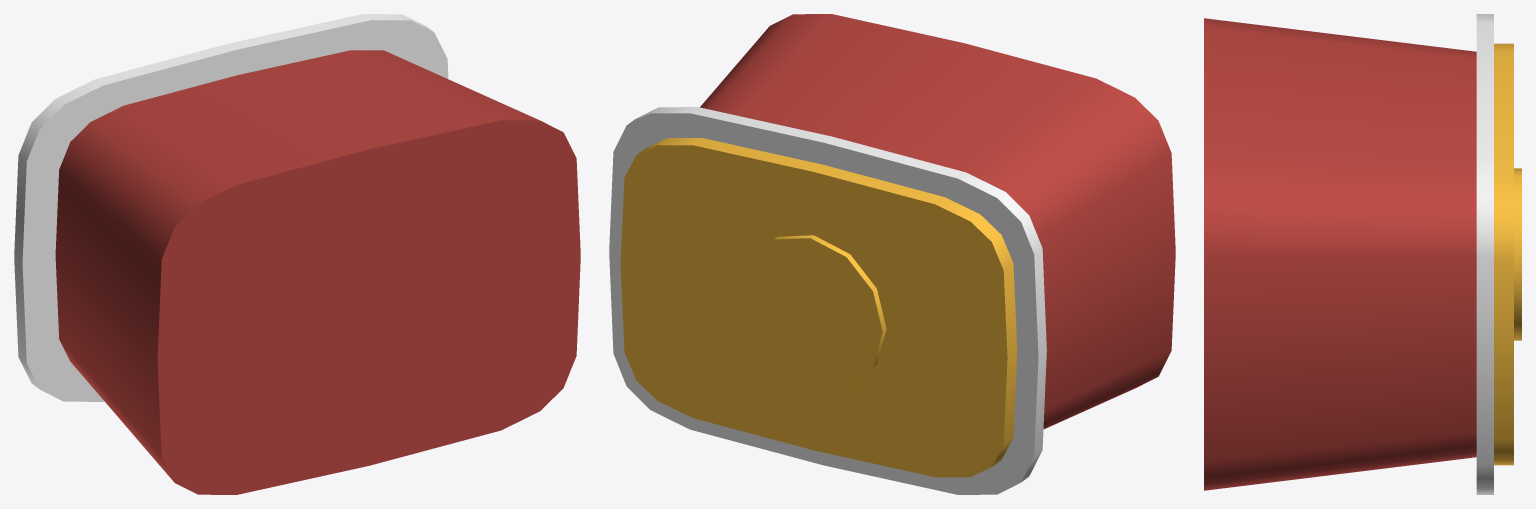
Rendered from touring.glb.
The picture shows the model from 3 angles, left to right: view 1: azimuth 30°, elevation 25°; view 2: azimuth 150°, elevation 25°; view 3: azimuth 270°, elevation 25°; orthographic projection. The views are drawn at different scales.
Visible parts, largest first — view 1: lod0; view 2: lod0; view 3: lod0.
Part boxes in pixels (<box>): lod0: <box>14,14,580,494</box>; lod0: <box>609,14,1175,494</box>; lod0: <box>1204,14,1521,494</box>.
Size of what is drawn, in the model's own units: 0.071 by 0.051 by 0.0441.
